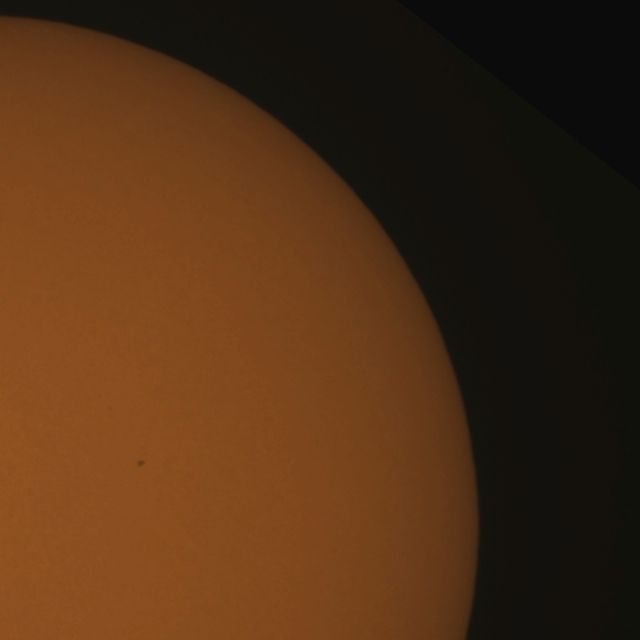sunspot: (136, 458, 146, 468)
